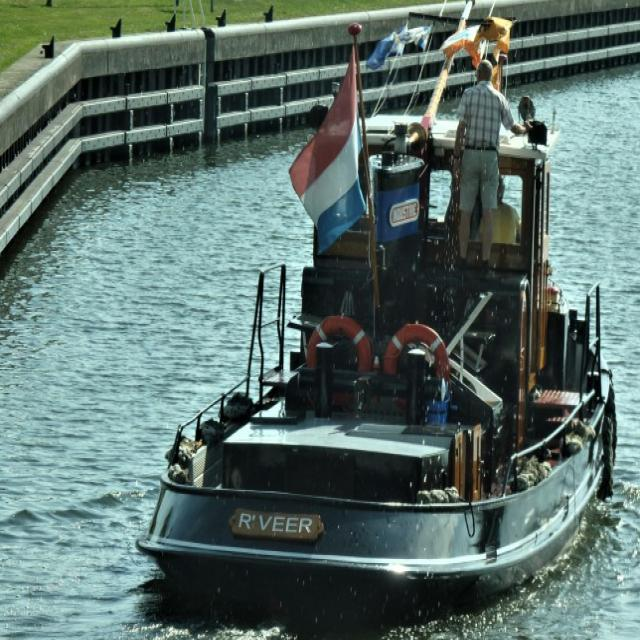tugboat: (131, 1, 623, 634)
